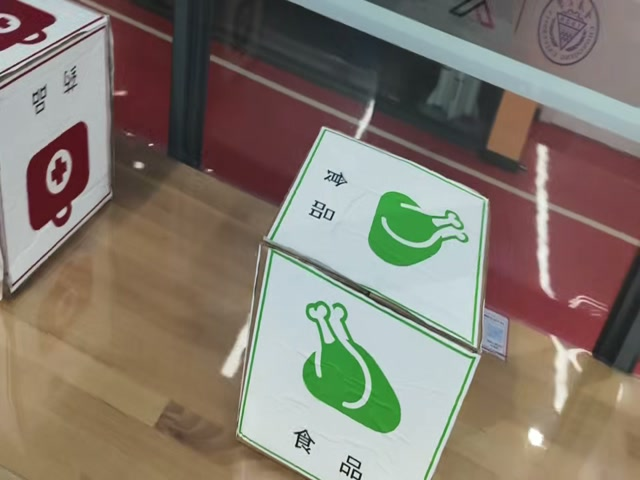Cube_food: (268, 119, 490, 363)
Cube_medicine: (0, 2, 123, 87)
